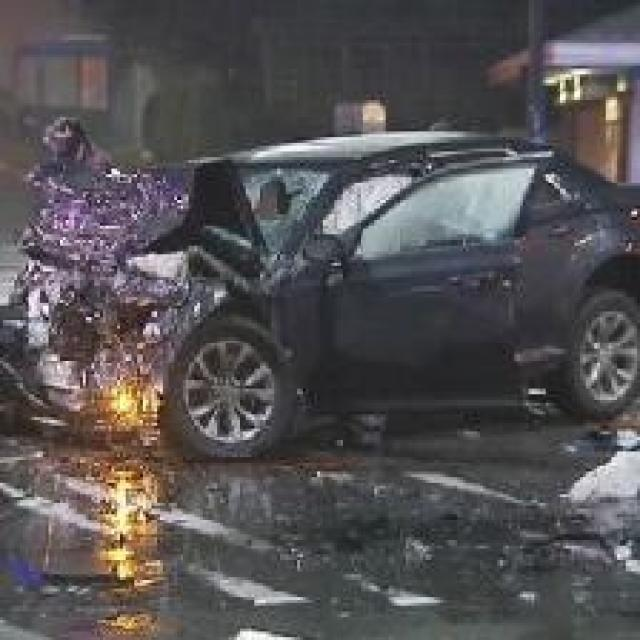damaged: (0, 117, 531, 465)
